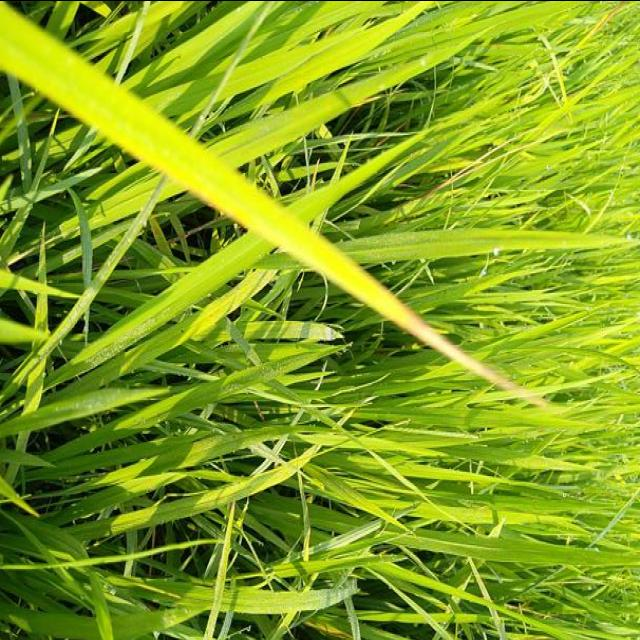Leaf Blight: (355, 282, 551, 407)
